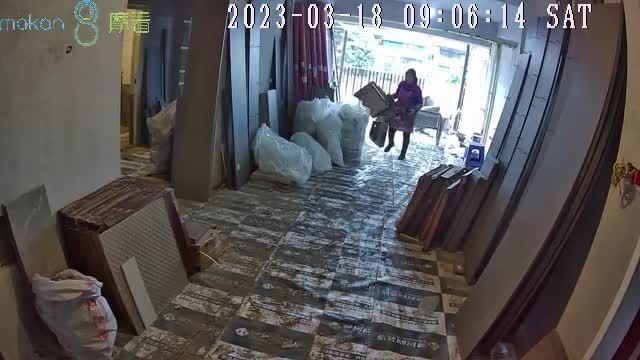people: (388, 68, 423, 161)
window: (330, 17, 492, 130)
